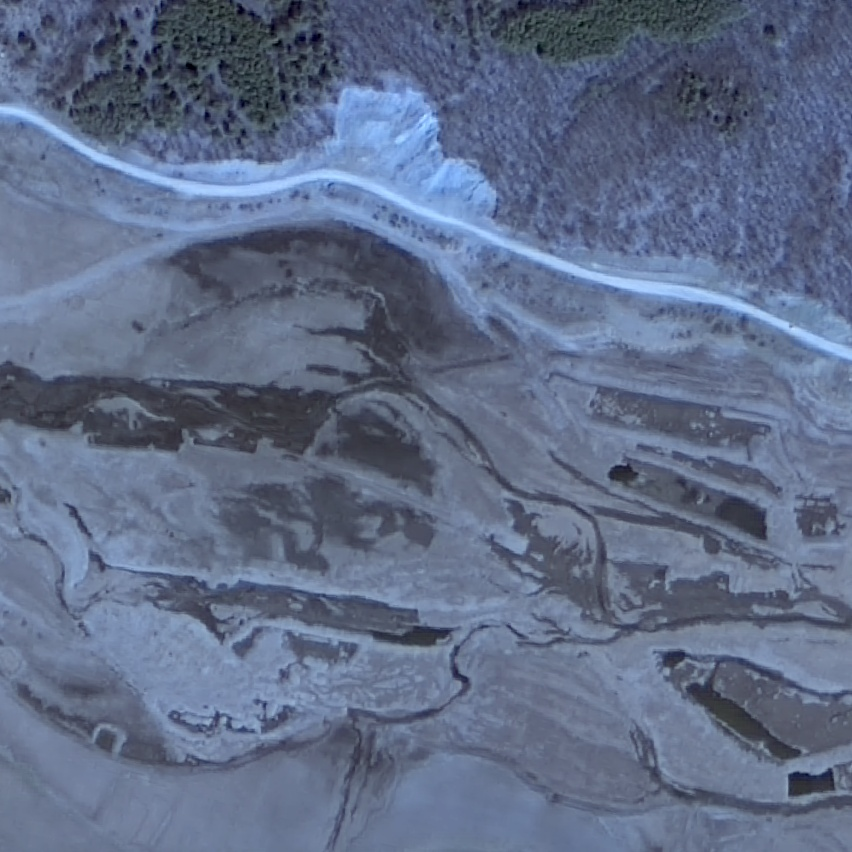slope: (145, 80, 508, 221)
